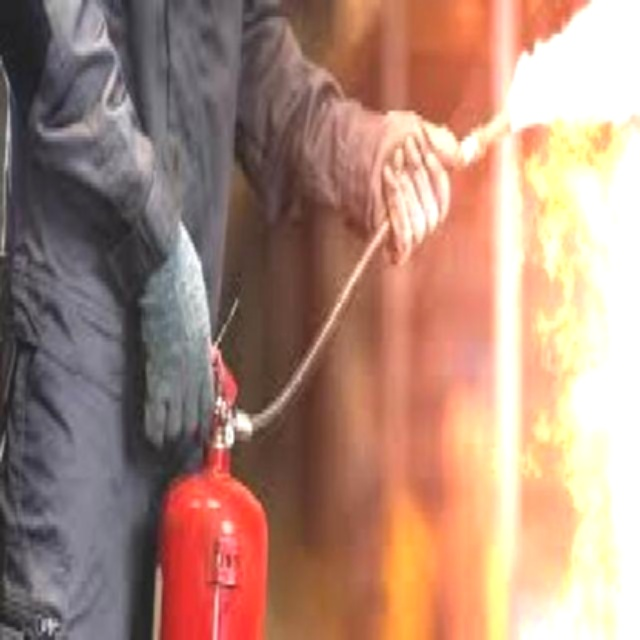gloves: (265, 52, 523, 283), (112, 230, 252, 464)
